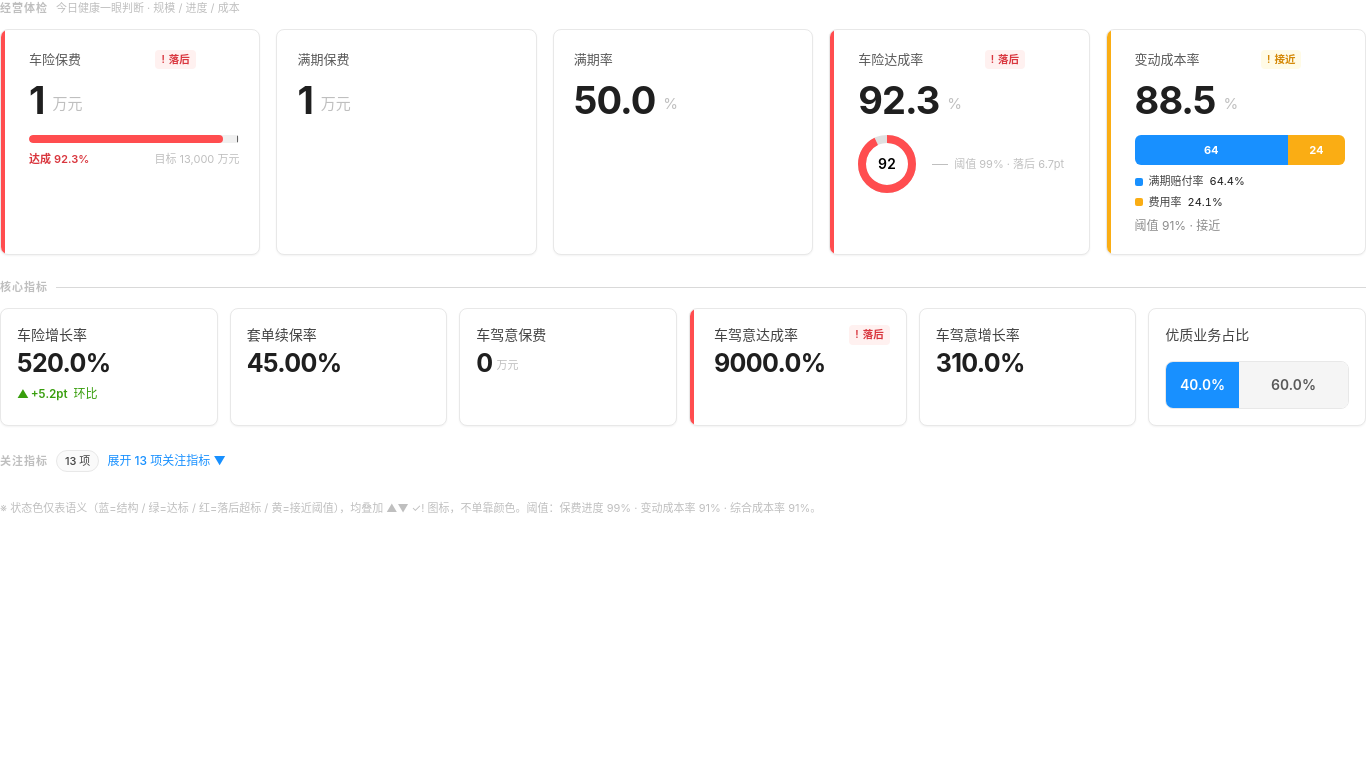
Scenario: KpiSection 特征测试 › Watch 卡默认折叠，点击「展开」后才渲染（渐进披露）
Expected: the text "总保费" is not shown
Expected: the text "保单件数" is not shown
Click the button "关注指标 13 项 展开 13 项关注指标 ▼": (113, 461) [0,450,226,472]
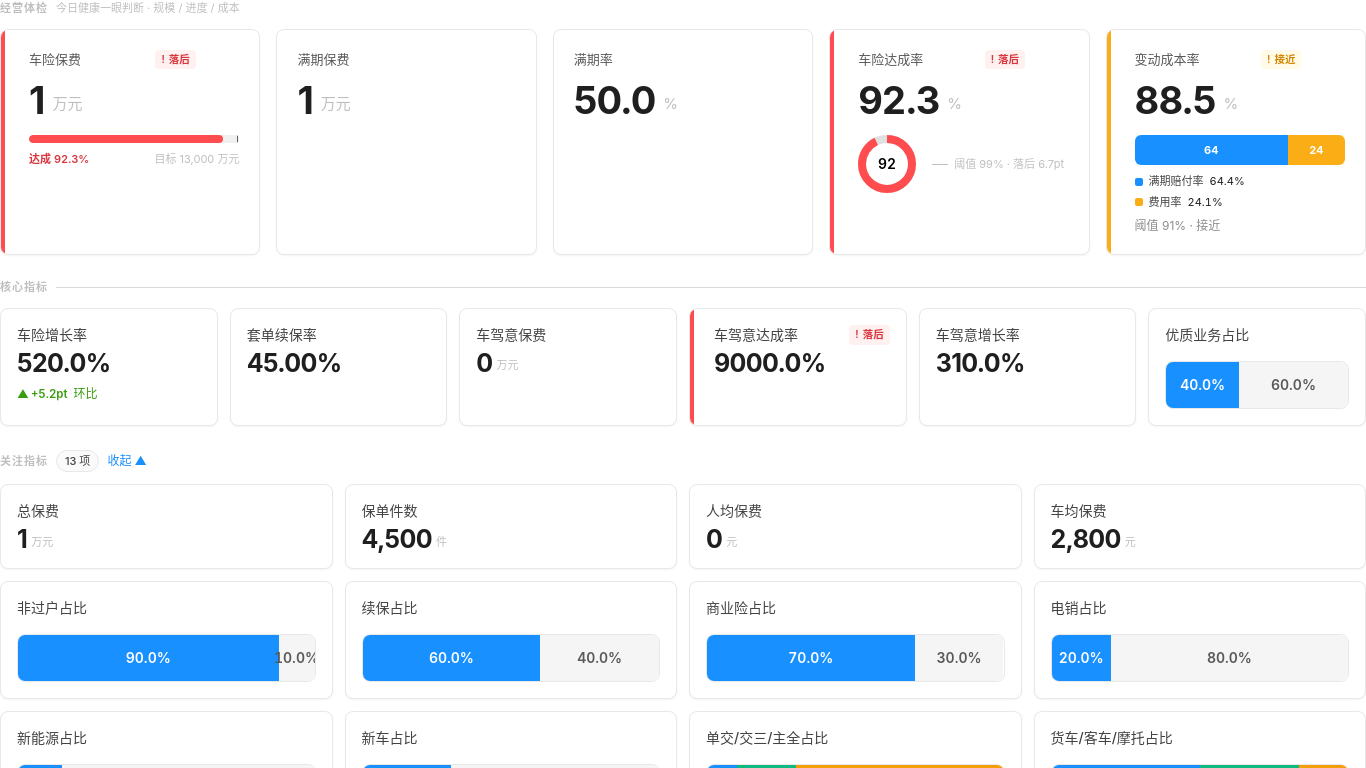
Expected: the text "总保费" is shown, [17,501,59,521]
Expected: the text "保单件数" is shown, [362,501,418,521]
Expected: the text "续保占比" is shown, [362,598,418,618]
